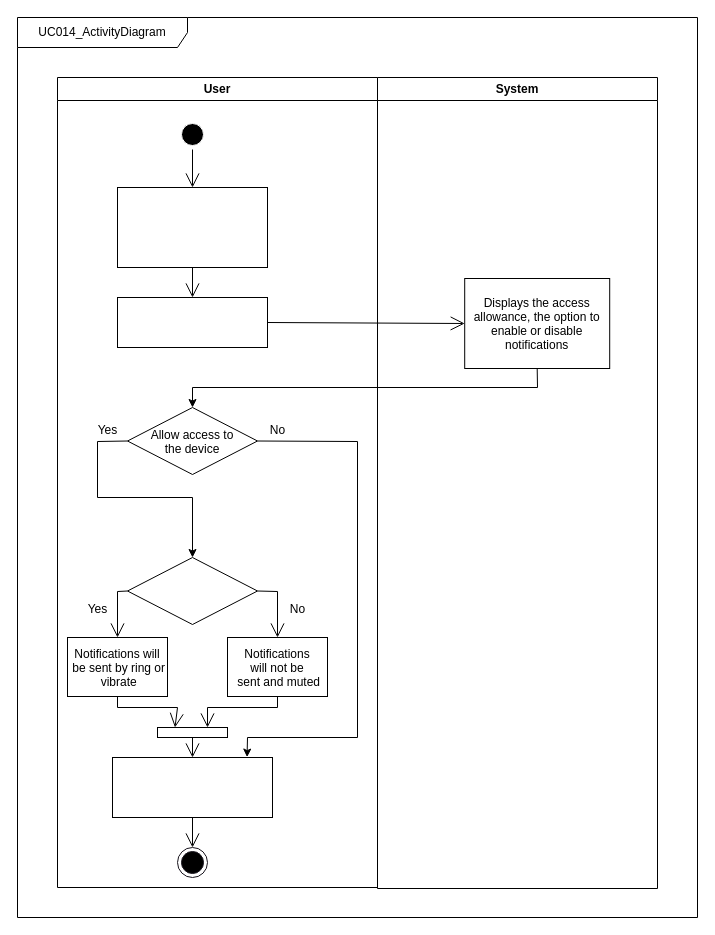
Image size: 715x935. Some labels were removed from this diagram. Each missing label, with the centre of its shape:
Click the "Manage Notifications" button: point 192,322
Enable notifications: point 192,590
Go back to the KTDI Minimarket System Homepage: point 192,787
Go to KTDI Minimarket System Homepage and click "Settings": point 192,227
